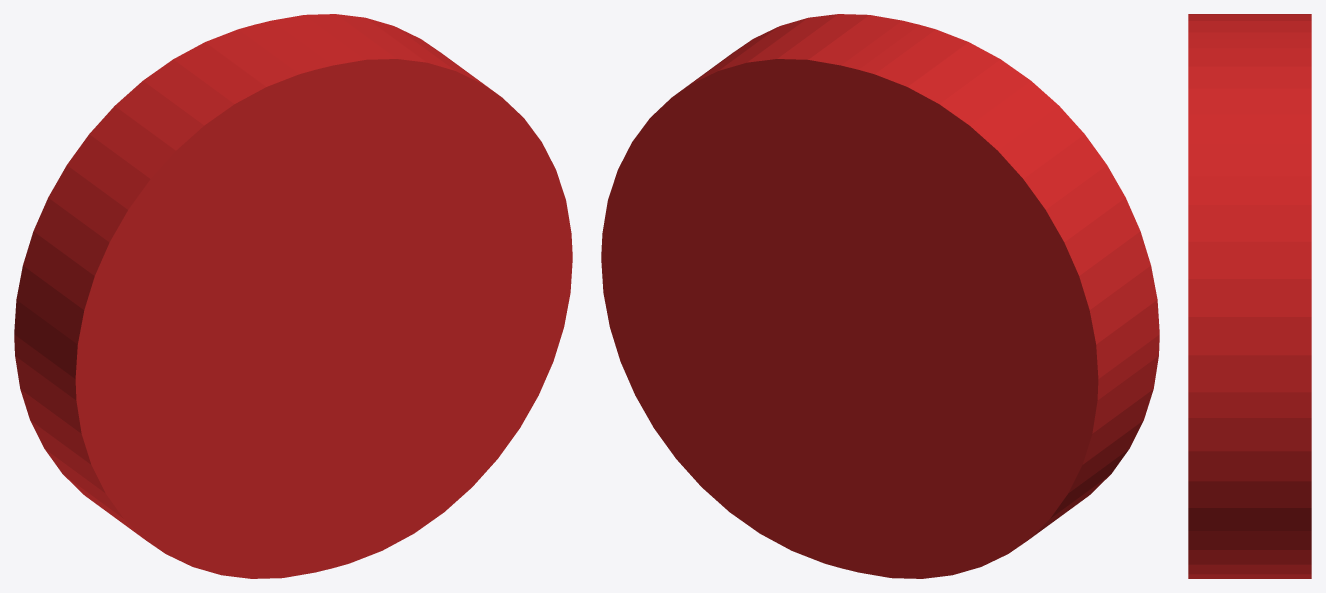
The model's file is converted_link2_5_d12626ff.obj.
The picture shows the model from 3 angles, left to right: view 1: azimuth 30°, elevation 25°; view 2: azimuth 150°, elevation 25°; view 3: azimuth 270°, elevation 25°; orthographic projection.
Size of the model in its own units: 0.000468 by 0.000452 by 0.0001.
